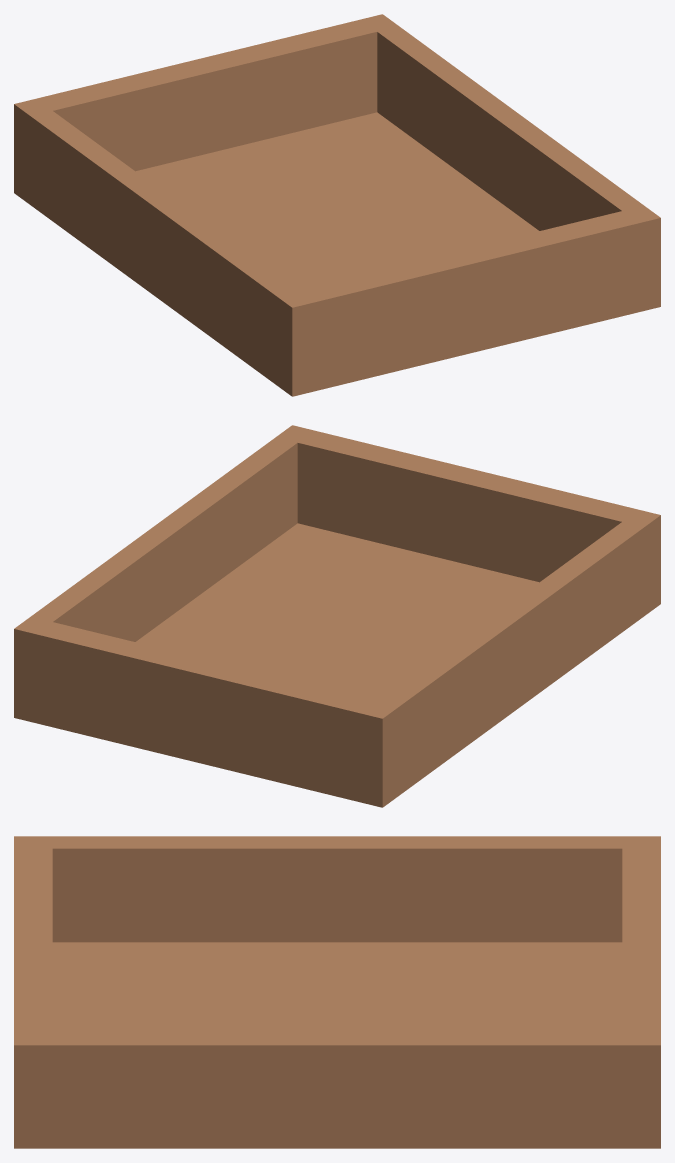
Rendered from document-tray.glb.
3 renders of one model, top to bottom at view 1: azimuth 30°, elevation 25°; view 2: azimuth 150°, elevation 25°; view 3: azimuth 270°, elevation 25°, orthographic. The views are drawn at different scales.
Visible parts, largest first — view 1: document-tray; view 2: document-tray; view 3: document-tray.
Boxes of the visible parts, x1,y1,x2,y2 form: document-tray: (14,14,660,396); document-tray: (14,425,660,807); document-tray: (14,836,660,1148).
Size of the model in its own units: 26 by 6 by 34.
